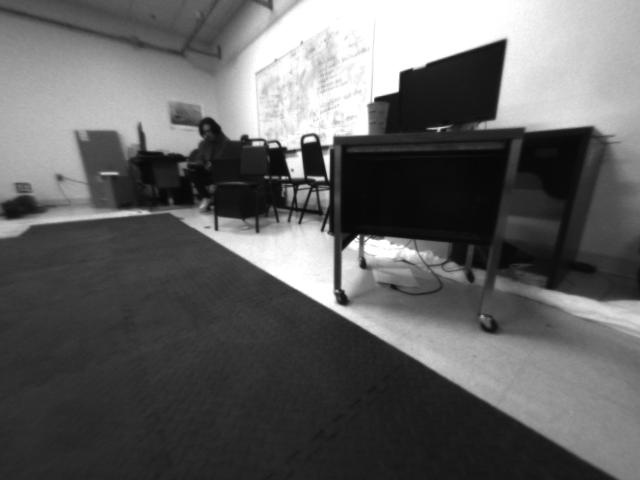coffee_cup: (366, 101, 388, 135)
